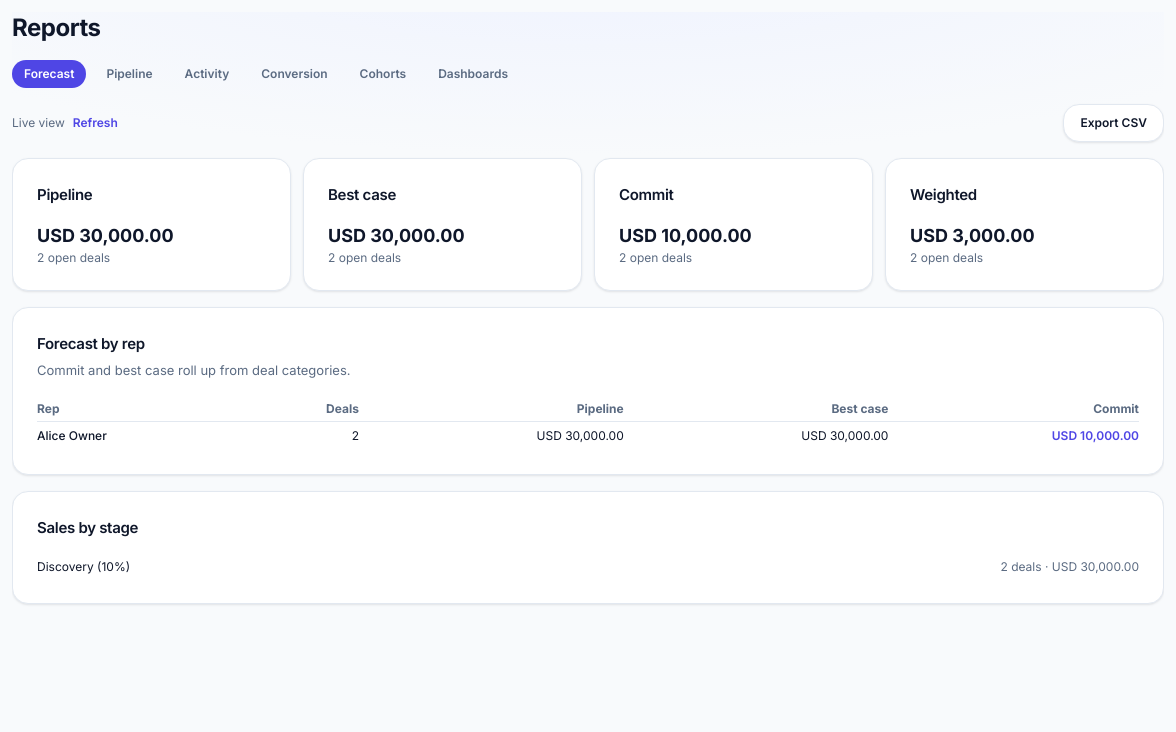
Test: ReportsPage › renders widgets for the selected dashboard
Expected: the heading "Reports" is shown, [12,13,101,42]
Click the button "Dashboards" at [473, 74], box [426,60,520,88]
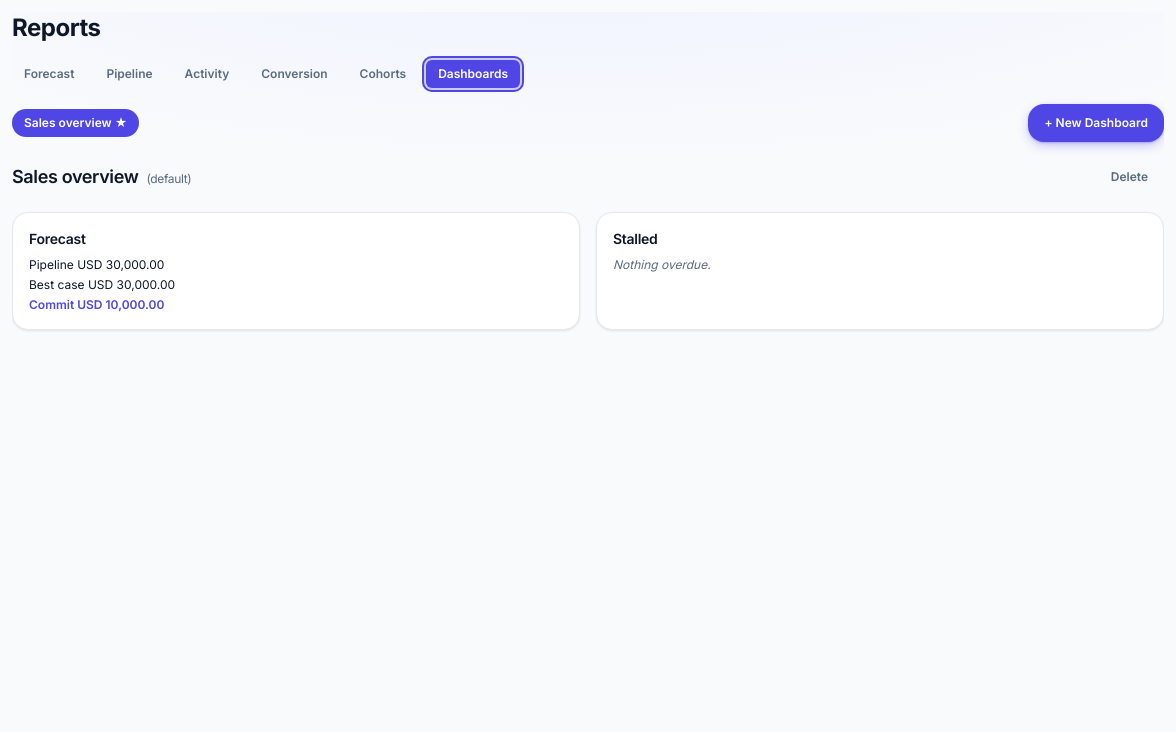
Now the element named "Widget Forecast" is shown, box [12,212,580,330]
